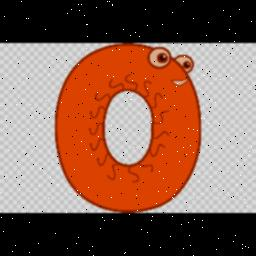o: (52, 43, 206, 213)
